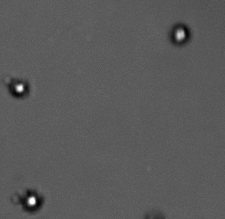Living Cell: (21, 187, 44, 212), (169, 22, 190, 46), (8, 78, 29, 98)
